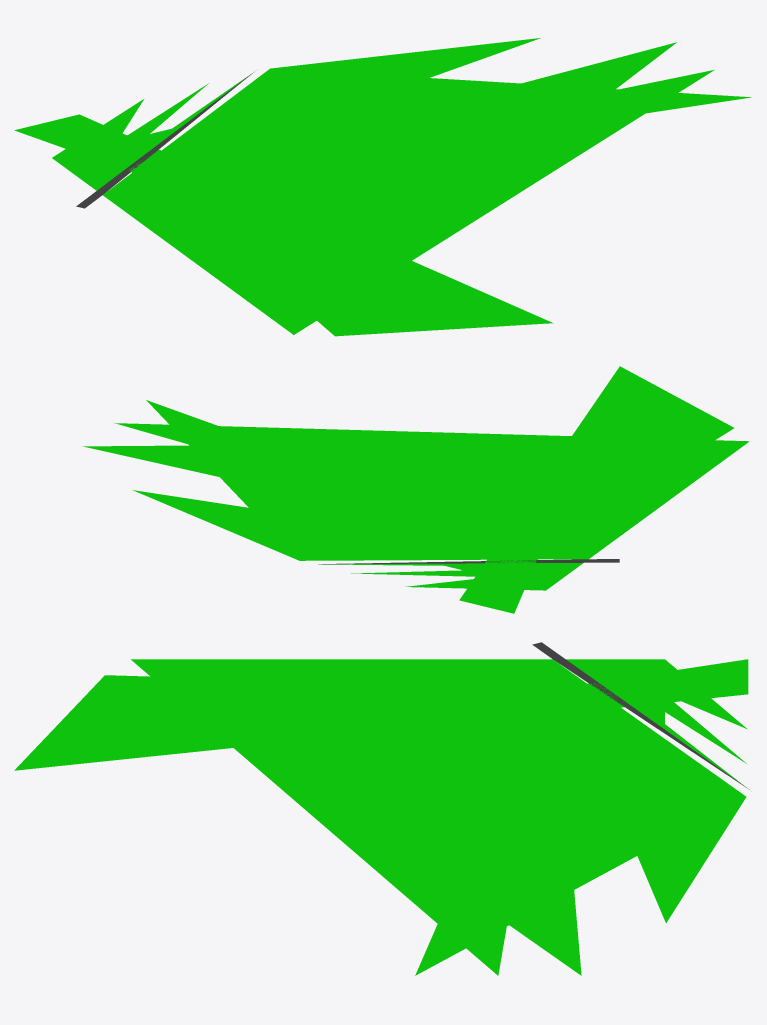
3 views of the same model, one above another, from view 1: azimuth 30°, elevation 25°; view 2: azimuth 150°, elevation 25°; view 3: azimuth 270°, elevation 25° (orthographic). The views are drawn at different scales.
Bounding box in the file's own units: 314 × 0 × 266.
